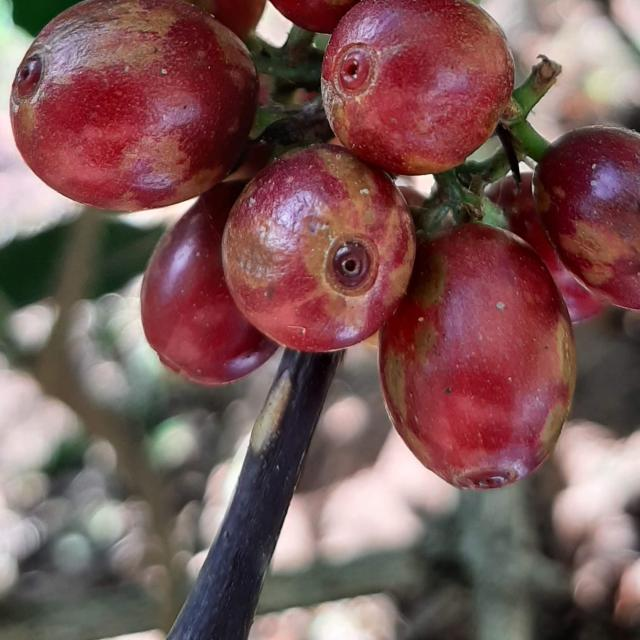red: (9, 0, 258, 211), (380, 224, 577, 490), (222, 143, 416, 353), (321, 0, 515, 175), (140, 200, 278, 386), (534, 125, 640, 310)
